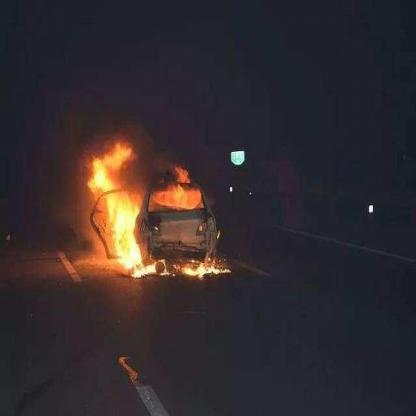fire: (80, 138, 234, 290)
